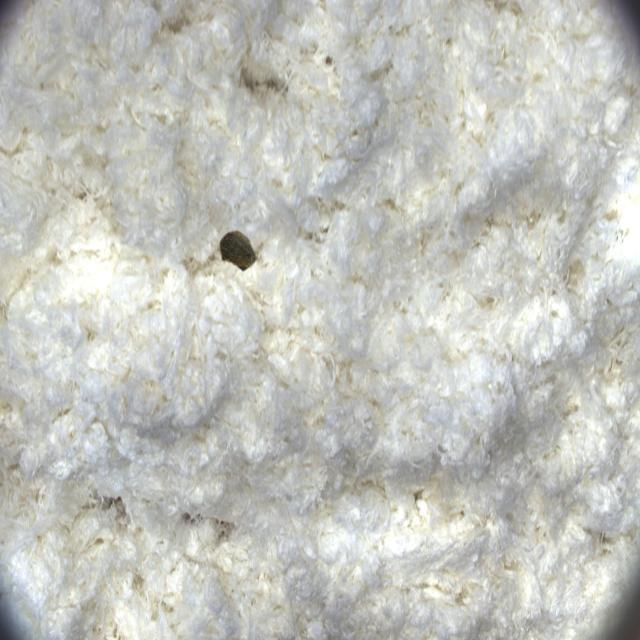dust: (210, 209, 276, 298)
